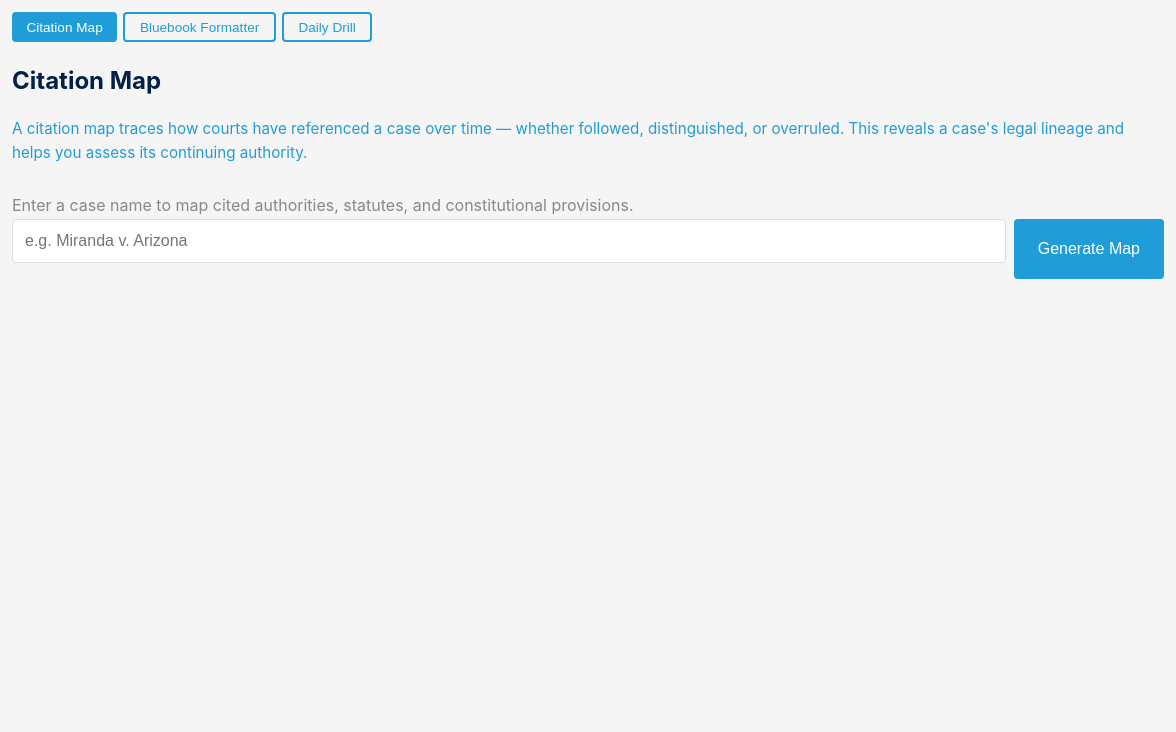
Scenario: CitationsView › renders the daily drill with today's quiz
The width and height of the screenshot is (1176, 732).
What coordinates should you click on to do the following:
click the button "Daily Drill"
I would click on:
 (327, 27)
Its box is [282,12,372,42].
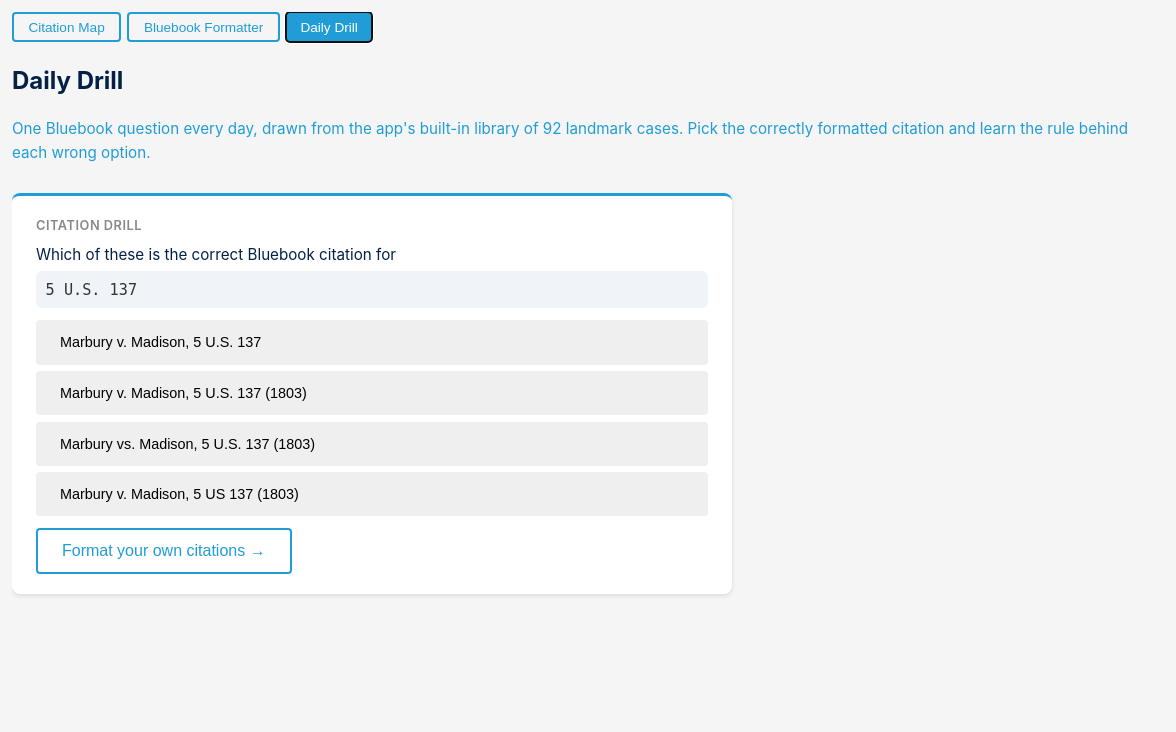
Expected: the text "Which of these is the correct Bluebook citation for" is shown, [36,245,396,264]
Expected: the text "5 U.S. 137" is shown, [36,271,708,308]
Expected: the button "Marbury v. Madison, 5 U.S. 137 (1803)" is shown, [36,371,708,415]
